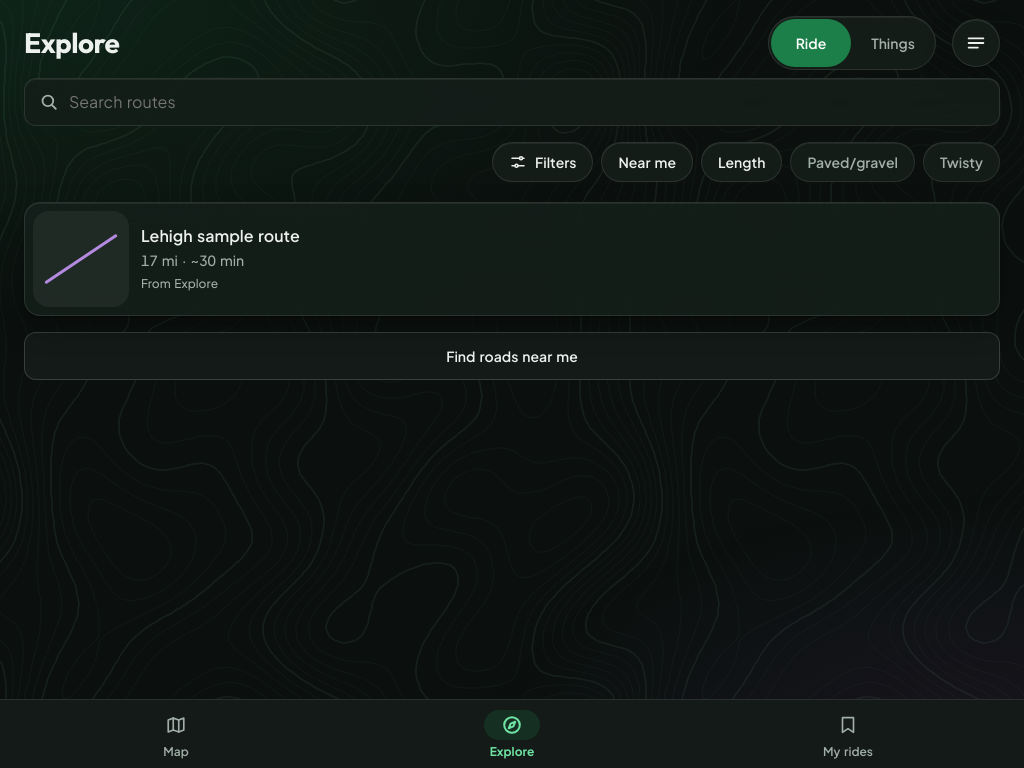
Test: Explore UI › shows an inline note when geolocation is denied
Click the button "Near me" at (647, 162), box [602,142,693,182]
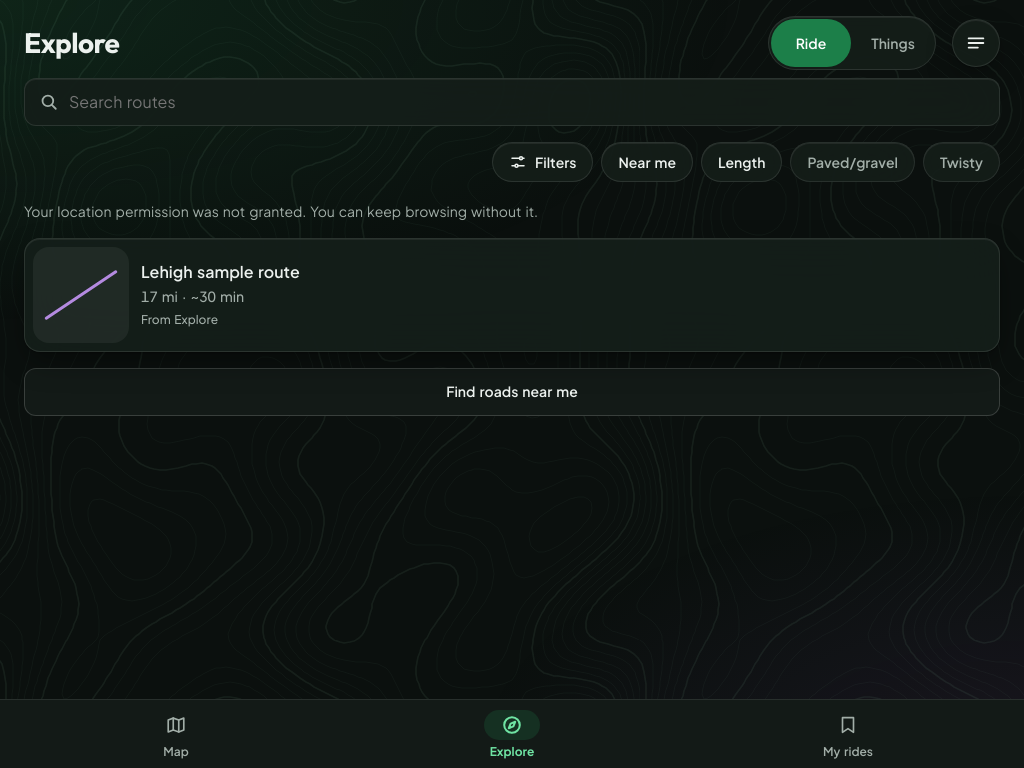
Expected: the text "Your location permission was not granted. You can keep browsing without it." is shown, [24,202,538,220]
